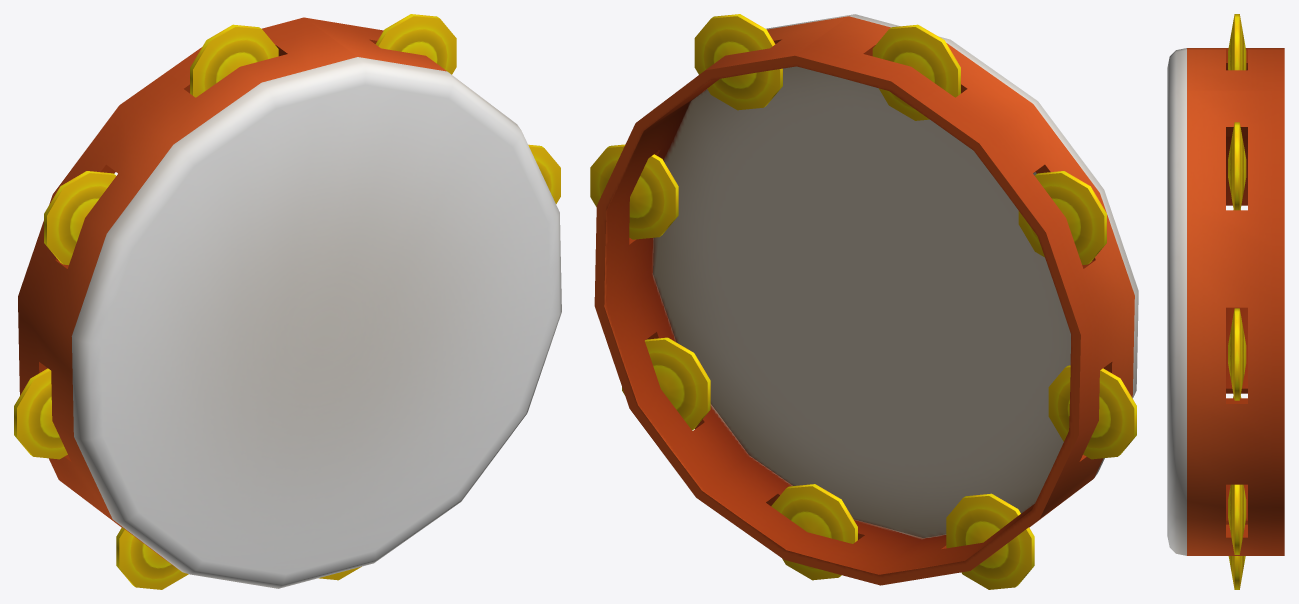
File: tambourine.FBX
The picture shows the model from 3 angles, left to right: view 1: azimuth 30°, elevation 25°; view 2: azimuth 150°, elevation 25°; view 3: azimuth 270°, elevation 25°; orthographic projection. The views are drawn at different scales.
Visible parts, largest first — view 1: tambourine; view 2: tambourine; view 3: tambourine.
Part boxes in pixels (left/top/right/bottom): tambourine: left=14, top=14, right=561, bottom=589; tambourine: left=590, top=14, right=1138, bottom=589; tambourine: left=1167, top=14, right=1284, bottom=589.
Bounding box in the file's own units: 34.35 × 34.92 × 7.08.
